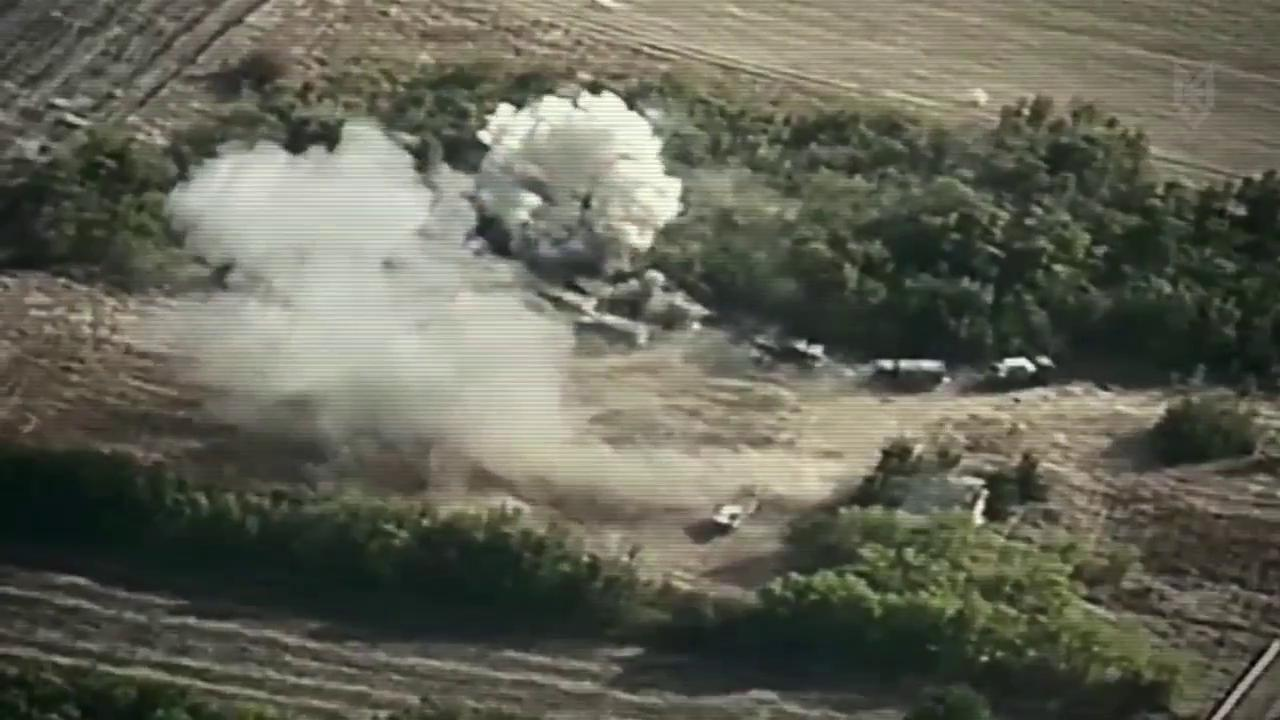tank: (578, 307, 656, 365), (743, 327, 826, 377), (872, 352, 957, 394), (989, 350, 1058, 399), (704, 483, 764, 531), (530, 279, 598, 316)
